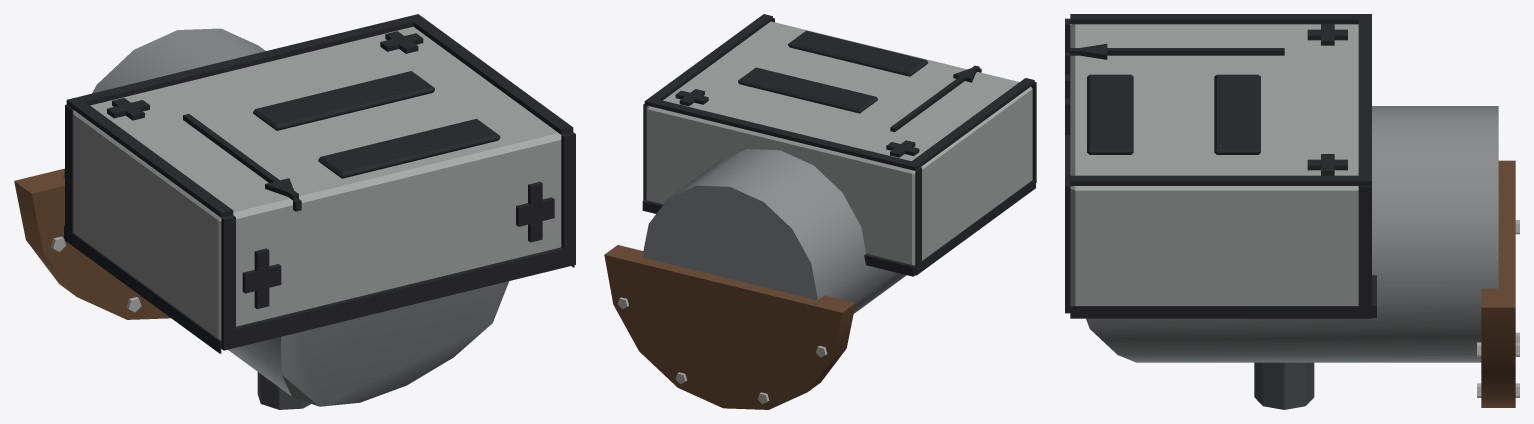
Rendered from one-way-valve-south.glb.
3 views of the same model, side by side, from view 1: azimuth 30°, elevation 25°; view 2: azimuth 150°, elevation 25°; view 3: azimuth 270°, elevation 25° (orthographic). The views are drawn at different scales.
Parts seen in each view (by area): view 1: body; view 2: body; view 3: body.
Boxes of the visible parts, left/top/right/bottom form: body: left=14, top=14, right=575, bottom=409; body: left=604, top=14, right=1036, bottom=409; body: left=1065, top=14, right=1519, bottom=409.
Size of the model in its own units: 0.932 by 0.776 by 1.06.
